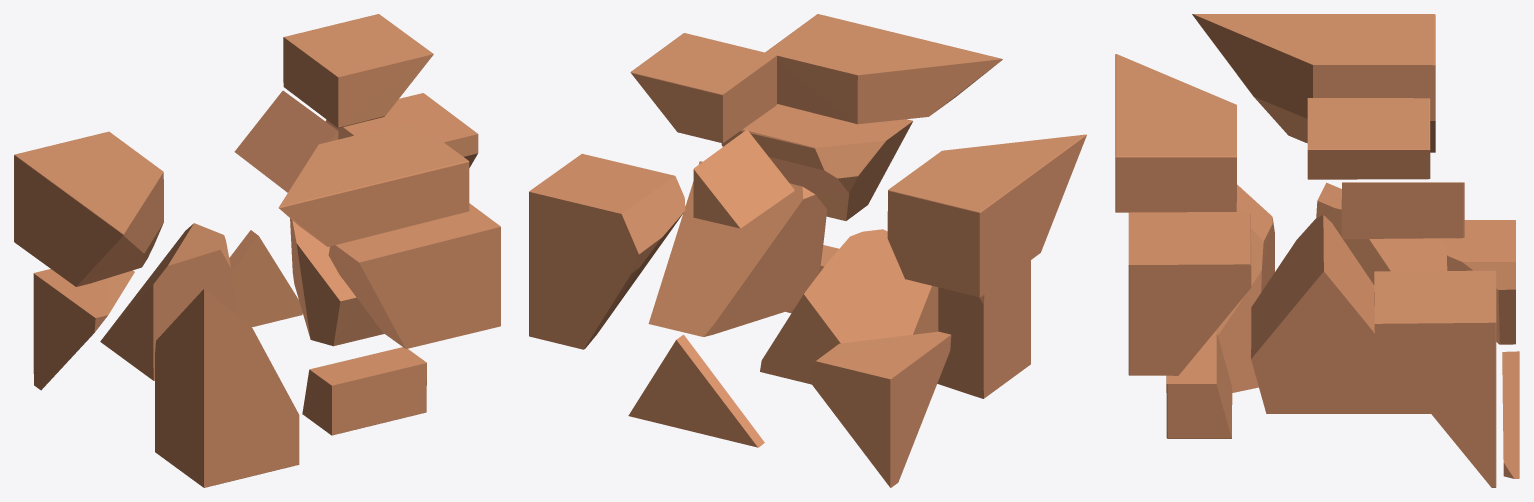
The model's file is Pieces.fbx.
3 views of the same model, side by side, from view 1: azimuth 30°, elevation 25°; view 2: azimuth 150°, elevation 25°; view 3: azimuth 270°, elevation 25° (orthographic). The views are drawn at different scales.
Visible parts, largest first — view 1: pCube1_cell.006, pCube1_cell, pCube1_cell.007, pCube1_cell.005, pCube1_cell.008, pCube1_cell.009, pCube1_cell.004, pCube1_cell.001, pCube1_cell.003, pCube1_cell.002, pCube1_cell.010, pCube1_cell.011; view 2: pCube1_cell, pCube1_cell.011, pCube1_cell.003, pCube1_cell.005, pCube1_cell.009, pCube1_cell.001, pCube1_cell.008, pCube1_cell.007, pCube1_cell.006, pCube1_cell.010, pCube1_cell.002; view 3: pCube1_cell.003, pCube1_cell, pCube1_cell.011, pCube1_cell.007, pCube1_cell.005, pCube1_cell.008, pCube1_cell.002, pCube1_cell.004, pCube1_cell.006, pCube1_cell.001, pCube1_cell.009, pCube1_cell.010.
Boxes of the visible parts, x1,y1,x2,y2 form: pCube1_cell.006: (155,289,299,487); pCube1_cell: (14,131,163,286); pCube1_cell.007: (328,203,500,348); pCube1_cell.005: (278,121,469,246); pCube1_cell.008: (283,14,433,128); pCube1_cell.009: (100,223,237,380); pCube1_cell.004: (302,347,426,435); pCube1_cell.001: (33,269,134,390); pCube1_cell.003: (290,218,384,346); pCube1_cell.002: (234,90,338,192); pCube1_cell.010: (229,230,302,327); pCube1_cell.011: (325,93,478,167); pCube1_cell: (887,134,1086,297); pCube1_cell.011: (529,153,685,349); pCube1_cell.003: (648,161,827,336); pCube1_cell.005: (765,14,1002,124); pCube1_cell.009: (760,229,938,384); pCube1_cell.001: (808,331,951,487); pCube1_cell.008: (630,33,776,143); pCube1_cell.007: (721,104,912,220); pCube1_cell.006: (937,260,1030,398); pCube1_cell.010: (628,334,764,447); pCube1_cell.002: (693,129,794,228); pCube1_cell.003: (1251,215,1430,413); pCube1_cell: (1192,14,1435,152); pCube1_cell.011: (1374,270,1496,487); pCube1_cell.007: (1128,208,1251,375); pCube1_cell.005: (1115,54,1236,212); pCube1_cell.008: (1307,98,1430,179); pCube1_cell.002: (1341,182,1464,239); pCube1_cell.004: (1166,332,1232,438); pCube1_cell.006: (1166,184,1274,392); pCube1_cell.001: (1437,220,1515,344); pCube1_cell.009: (1316,182,1447,284); pCube1_cell.010: (1502,351,1519,478).
Size of the model in its own units: 737 by 524 by 532.
